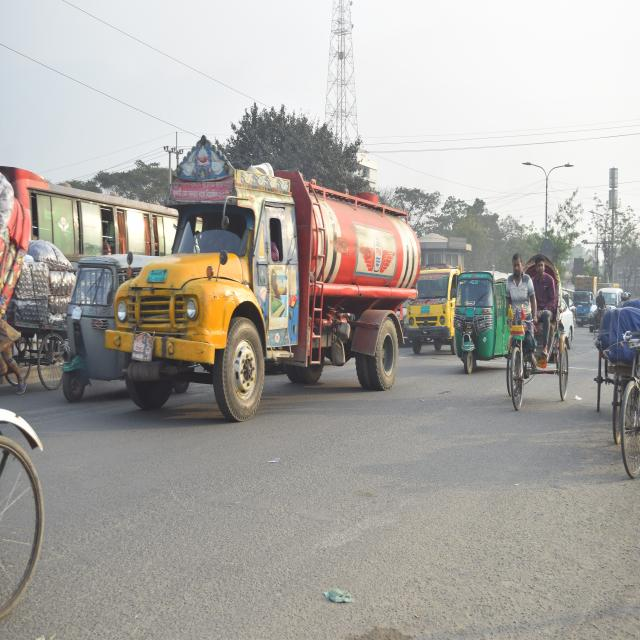car: (588, 284, 623, 329), (554, 294, 578, 350)
pickup-van: (410, 257, 457, 360), (570, 272, 592, 324)
truck: (111, 132, 414, 430)
